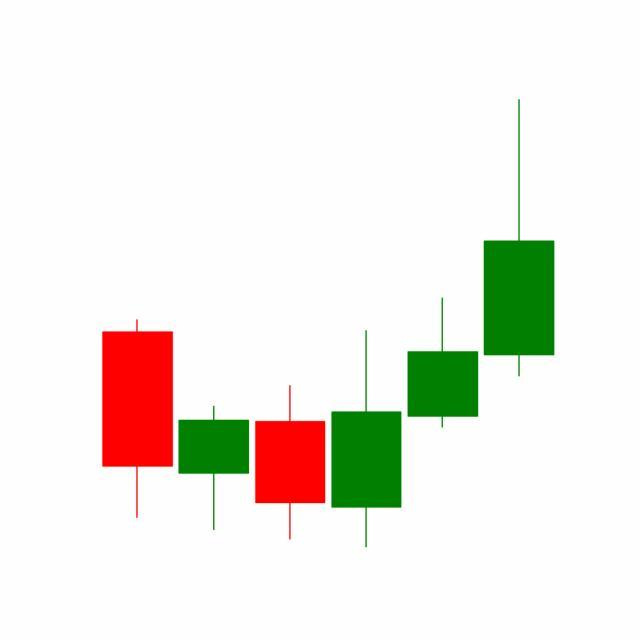Three Outside Up-Down: (252, 294, 482, 549)
